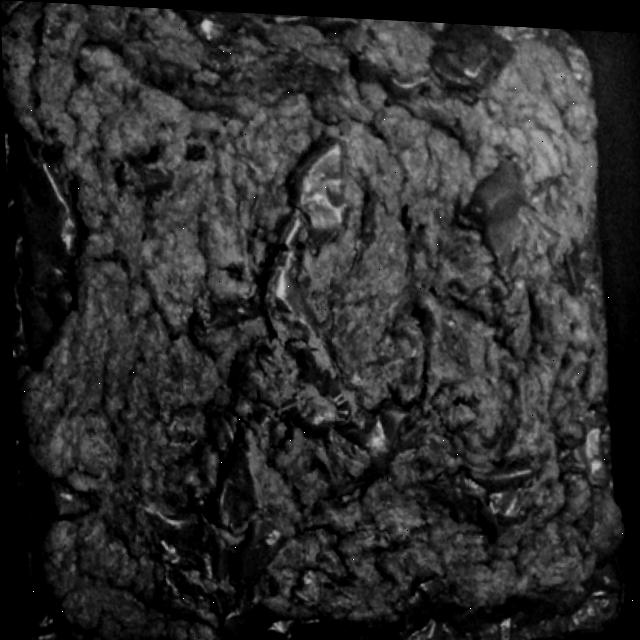蛋糕甜品: (0, 2, 631, 640)
